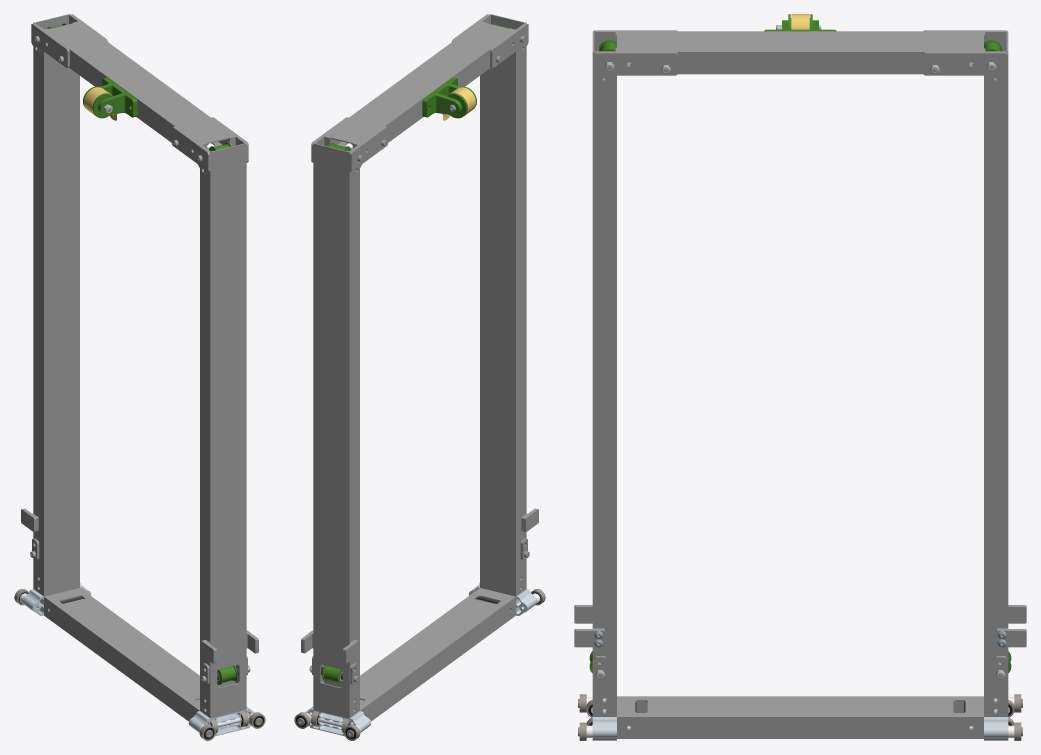
File: Alpha 2025 Stage 3.glb
The picture shows the model from 3 angles, left to right: view 1: azimuth 30°, elevation 25°; view 2: azimuth 150°, elevation 25°; view 3: azimuth 270°, elevation 25°; orthographic projection. The views are drawn at different scales.
Parts seen in each view (by area): view 1: Tube 2"x1"x30" (×2), Tube 2"x1"x15" (×2), WCP-0199-001 Rev2 (×2), Part 2, Part 29, Part 30; view 2: Tube 2"x1"x30" (×2), Tube 2"x1"x15" (×2), WCP-0199-001 Rev2 (×2), Part 2, Part 30, Part 29; view 3: Tube 2"x1"x30" (×2), Tube 2"x1"x15" (×2), Part 28, Part 22.
Boxes of the visible parts, x1,y1,x2,y2 form: Tube 2"x1"x30" (×2): [33, 14, 246, 718]; Tube 2"x1"x15" (×2): [44, 21, 235, 721]; WCP-0199-001 Rev2 (×2): [22, 577, 254, 736]; Part 2: [98, 77, 137, 117]; Part 29: [171, 126, 210, 173]; Part 30: [31, 23, 69, 67]; Tube 2"x1"x30" (×2): [313, 14, 526, 718]; Tube 2"x1"x15" (×2): [324, 21, 515, 721]; WCP-0199-001 Rev2 (×2): [305, 577, 537, 736]; Part 2: [422, 77, 461, 117]; Part 30: [349, 126, 388, 173]; Part 29: [490, 23, 528, 67]; Tube 2"x1"x30" (×2): [592, 31, 1008, 716]; Tube 2"x1"x15" (×2): [617, 31, 983, 738]; Part 28: [922, 52, 1008, 82]; Part 22: [592, 52, 678, 82].
Size of the model in its own units: 0.1178 by 0.791 by 0.4699.
